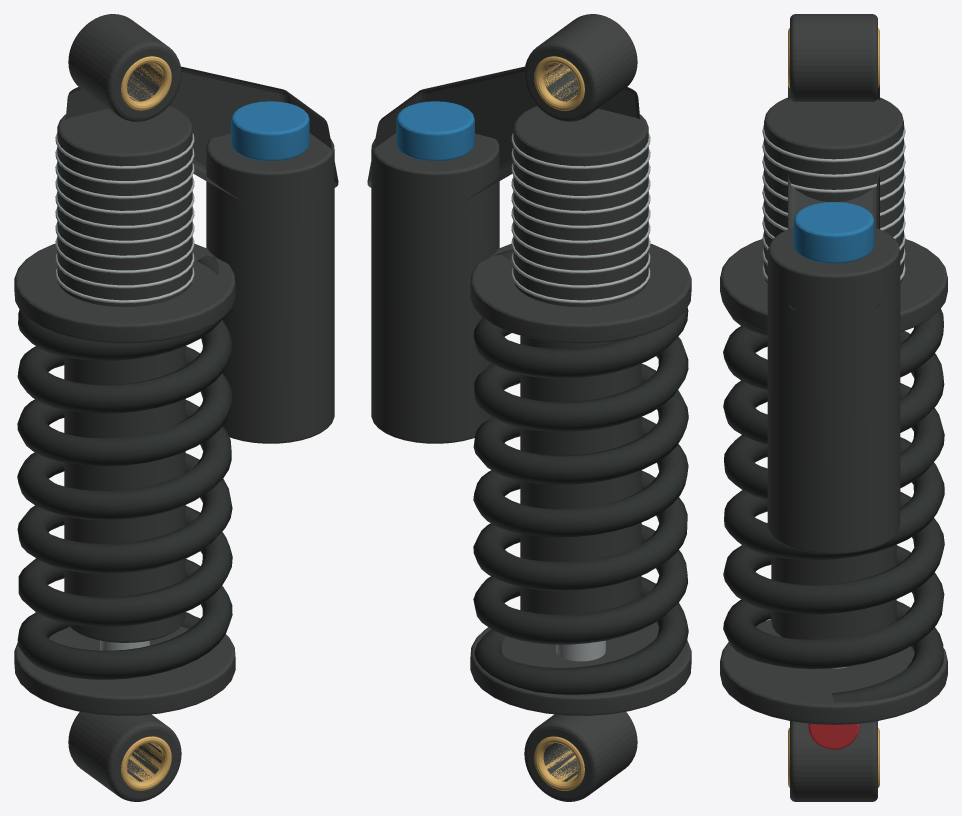
Rendered from marzocchi-bomber-cr--50e04369.glb.
3 renders of one model, left to right at view 1: azimuth 30°, elevation 25°; view 2: azimuth 150°, elevation 25°; view 3: azimuth 270°, elevation 25°, orthographic. The views are drawn at different scales.
Visible parts, largest first — view 1: marzocchi-bomber-cr--50e04369__link, marzocchi-bomber-cr--50e04369__coil, marzocchi-bomber-cr--50e04369__bolts, marzocchi-bomber-cr--50e04369__adjuster, marzocchi-bomber-cr--50e04369__stanchions; view 2: marzocchi-bomber-cr--50e04369__link, marzocchi-bomber-cr--50e04369__coil, marzocchi-bomber-cr--50e04369__bolts, marzocchi-bomber-cr--50e04369__adjuster, marzocchi-bomber-cr--50e04369__stanchions; view 3: marzocchi-bomber-cr--50e04369__link, marzocchi-bomber-cr--50e04369__coil, marzocchi-bomber-cr--50e04369__adjuster, marzocchi-bomber-cr--50e04369__bolts, marzocchi-bomber-cr--50e04369__rebound, marzocchi-bomber-cr--50e04369__stanchions.
Boxes of the visible parts, box(x1,y1,x2,y2) form: marzocchi-bomber-cr--50e04369__link: box(14, 14, 338, 801); marzocchi-bomber-cr--50e04369__coil: box(17, 255, 232, 679); marzocchi-bomber-cr--50e04369__bolts: box(55, 133, 194, 650); marzocchi-bomber-cr--50e04369__adjuster: box(231, 101, 309, 161); marzocchi-bomber-cr--50e04369__stanchions: box(121, 56, 171, 790); marzocchi-bomber-cr--50e04369__link: box(367, 14, 691, 801); marzocchi-bomber-cr--50e04369__coil: box(473, 249, 688, 694); marzocchi-bomber-cr--50e04369__bolts: box(511, 133, 650, 661); marzocchi-bomber-cr--50e04369__adjuster: box(396, 101, 474, 161); marzocchi-bomber-cr--50e04369__stanchions: box(534, 56, 584, 790); marzocchi-bomber-cr--50e04369__link: box(720, 14, 947, 801); marzocchi-bomber-cr--50e04369__coil: box(723, 304, 944, 702); marzocchi-bomber-cr--50e04369__adjuster: box(793, 202, 874, 263); marzocchi-bomber-cr--50e04369__bolts: box(762, 125, 905, 668); marzocchi-bomber-cr--50e04369__rebound: box(808, 723, 859, 749); marzocchi-bomber-cr--50e04369__stanchions: box(788, 28, 879, 787).
Bounding box in the file's own units: 0.096 × 0.234 × 0.062.
